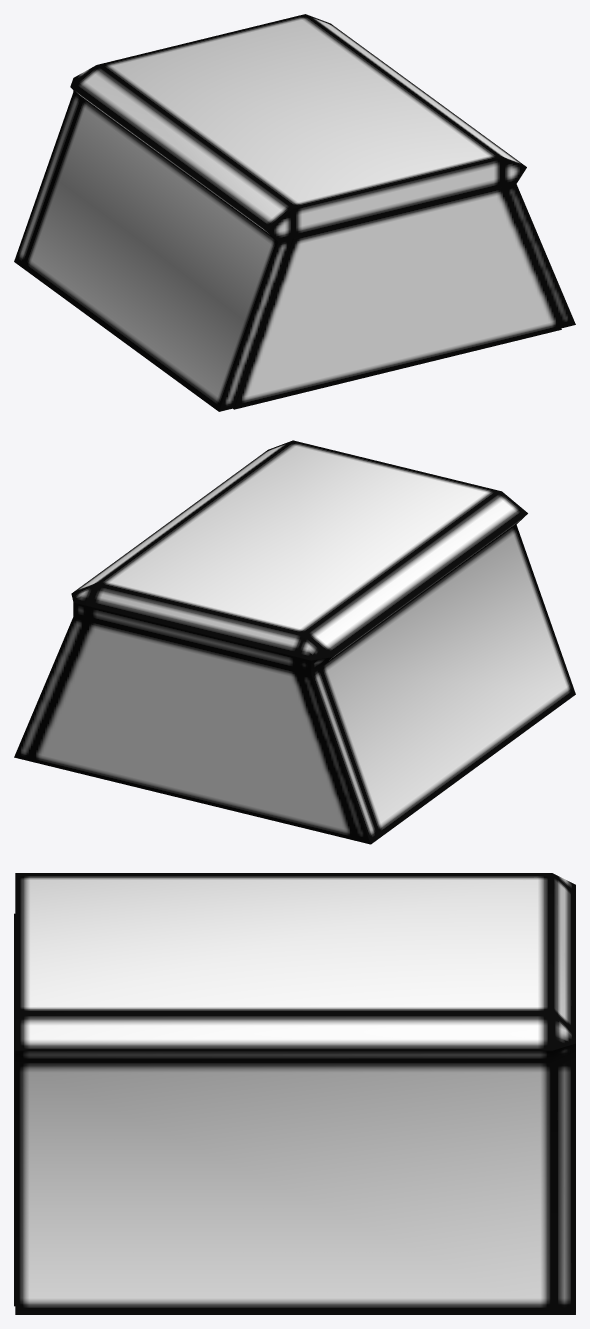
Rendered from Factory.obj.
3 views of the same model, one above another, from view 1: azimuth 30°, elevation 25°; view 2: azimuth 150°, elevation 25°; view 3: azimuth 270°, elevation 25° (orthographic). The views are drawn at different scales.
Visible parts, largest first — view 1: Box05; view 2: Box05; view 3: Box05.
Boxes of the visible parts, x1=… form: Box05: x1=14, y1=14, x2=575, y2=411; Box05: x1=14, y1=440, x2=575, y2=844; Box05: x1=14, y1=873, x2=575, y2=1314.
Bounding box in the file's own units: 6 × 2.99 × 5.99.
Materials: 1 (1 with a texture image).
